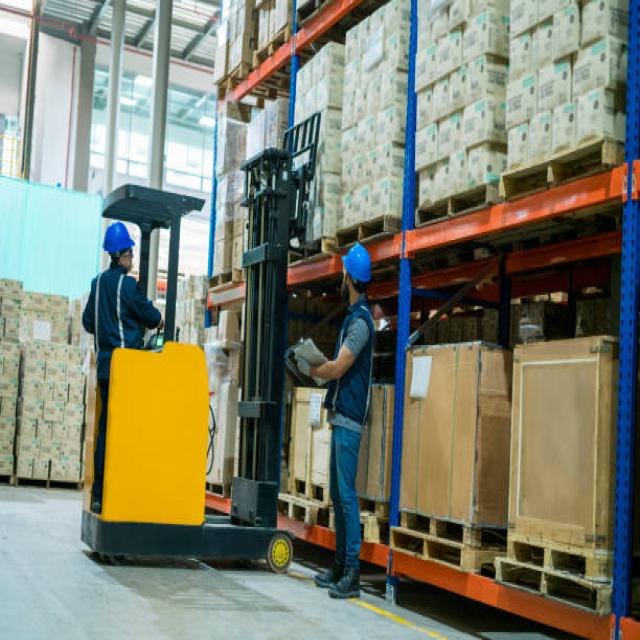Wooden-Pallets: (492, 558, 614, 627), (378, 518, 479, 598), (499, 133, 608, 205), (492, 525, 607, 590), (411, 175, 495, 238), (391, 506, 478, 559)
